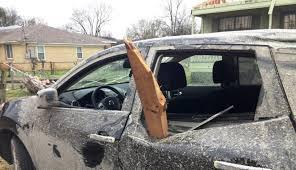doorouter-dent: (138, 34, 280, 165)
